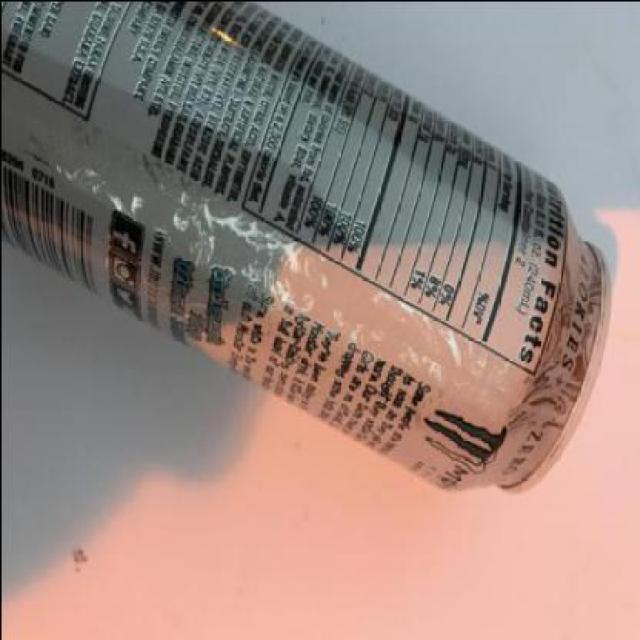METAL: (2, 2, 610, 492)
